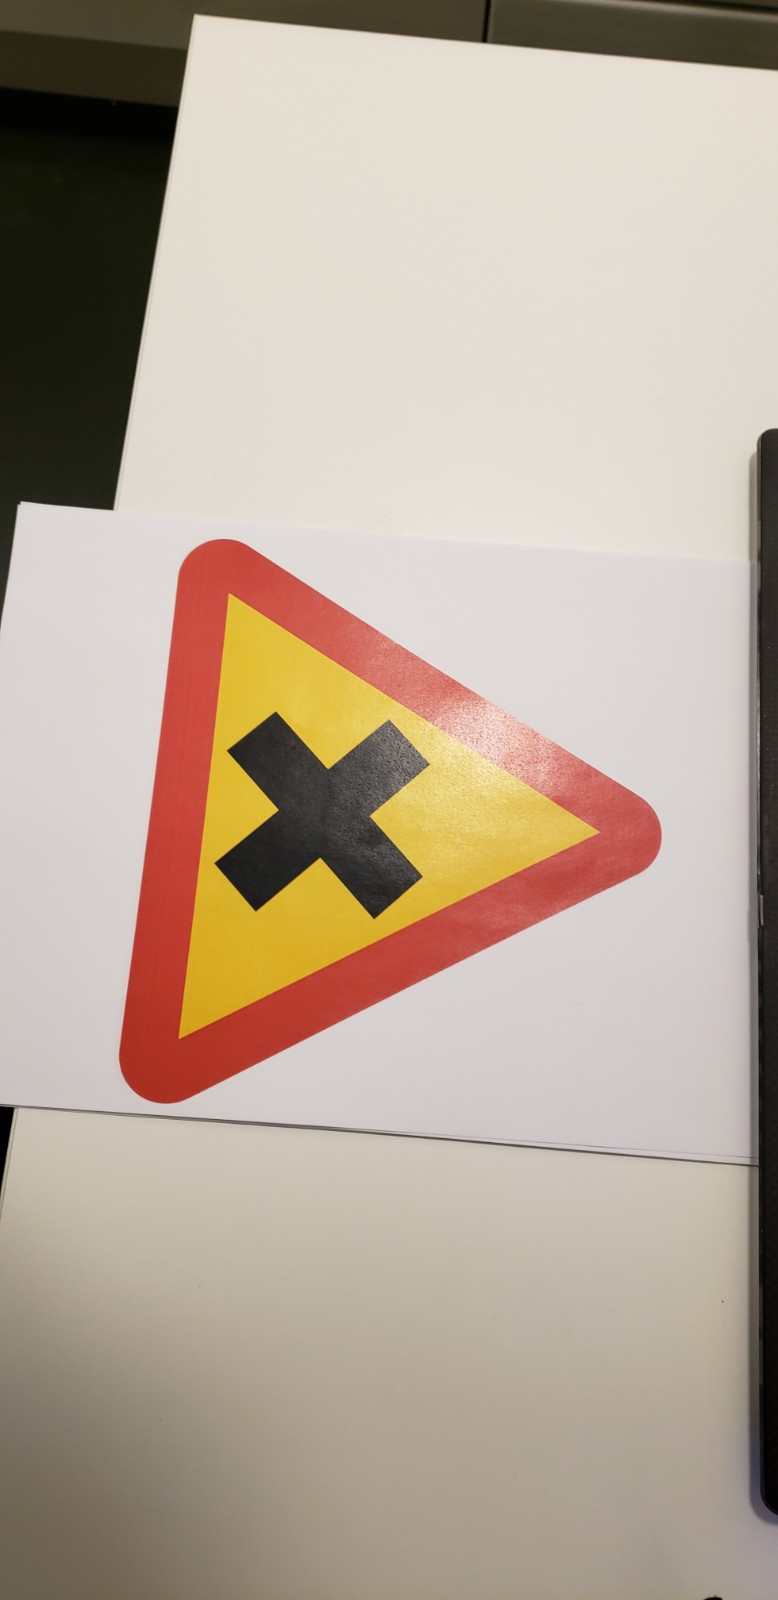junction: (136, 515, 680, 1124)
